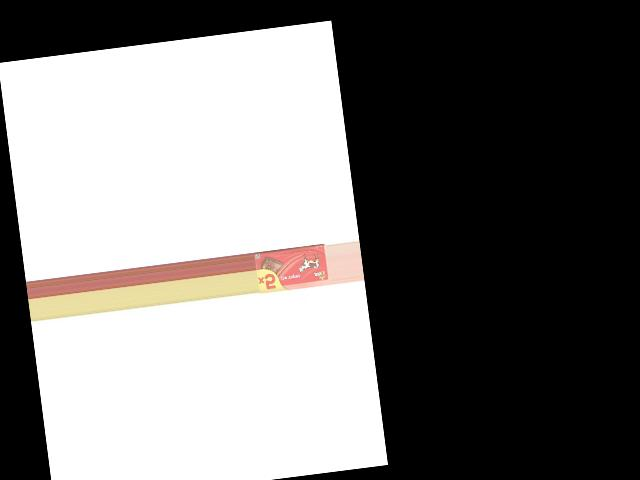chocolate: (254, 243, 332, 295)
